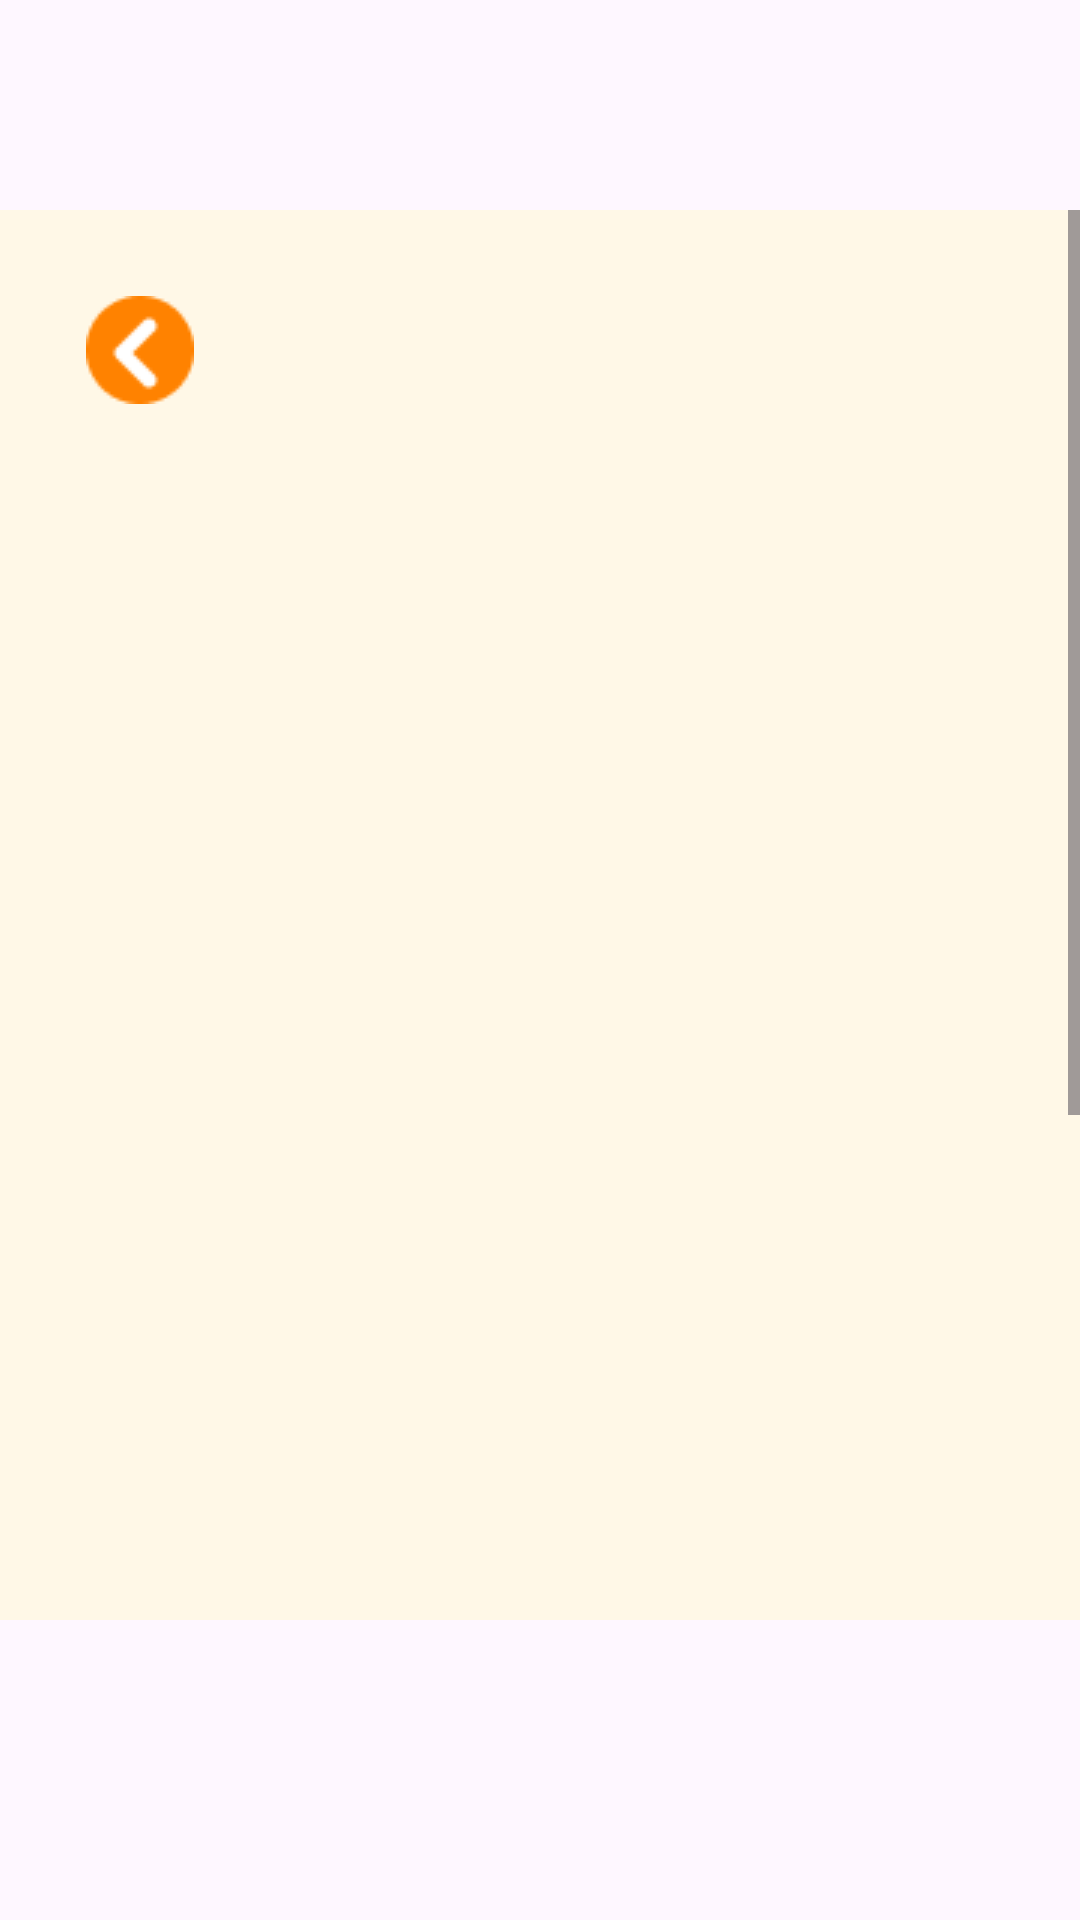

Where to tap for icons on this 1080×1920 app screen, as point (x, y):
Back: point (140, 350)
